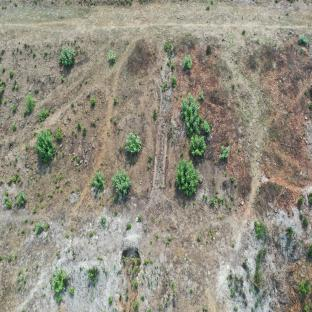slope_drain: (151, 57, 173, 188)
